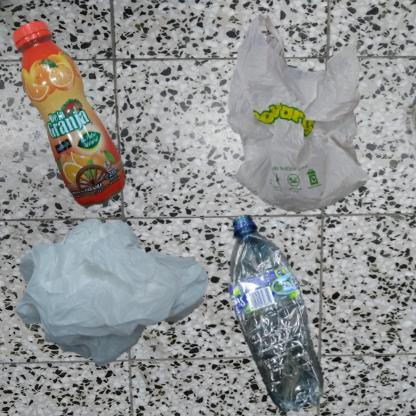bolsa: (213, 10, 395, 229), (10, 213, 216, 376)
botella: (10, 10, 141, 236), (213, 213, 347, 416)
